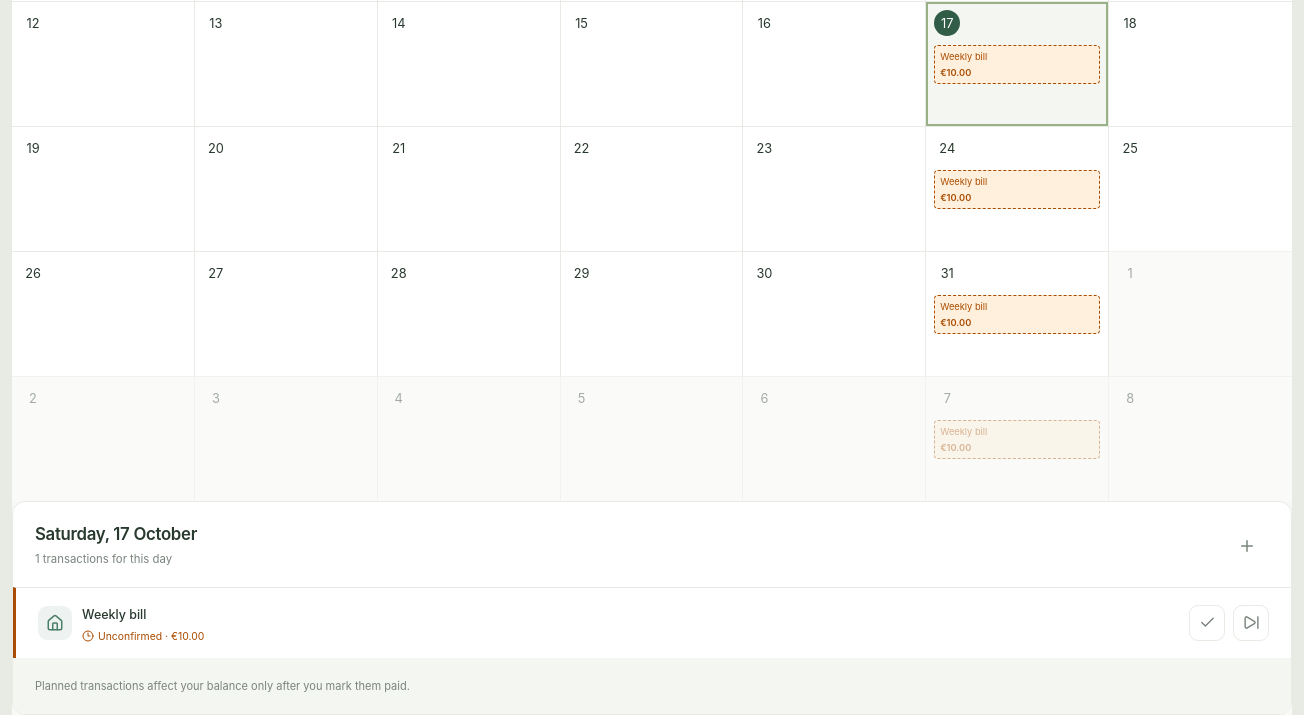
it: calendar states and default recurring table › shows all weekly instances and turns the selected occurrence green exactly once after confirmation
The width and height of the screenshot is (1304, 715).
(page scrolled)
Expected: the number of elements named "Weekly bill: Unconfirmed" is 4, [934,45,1100,84]; [934,170,1100,209]; [934,295,1100,334]; [934,420,1100,459]
Click the button named "Mark paid" at (1207, 623), box [1189,605,1225,641]
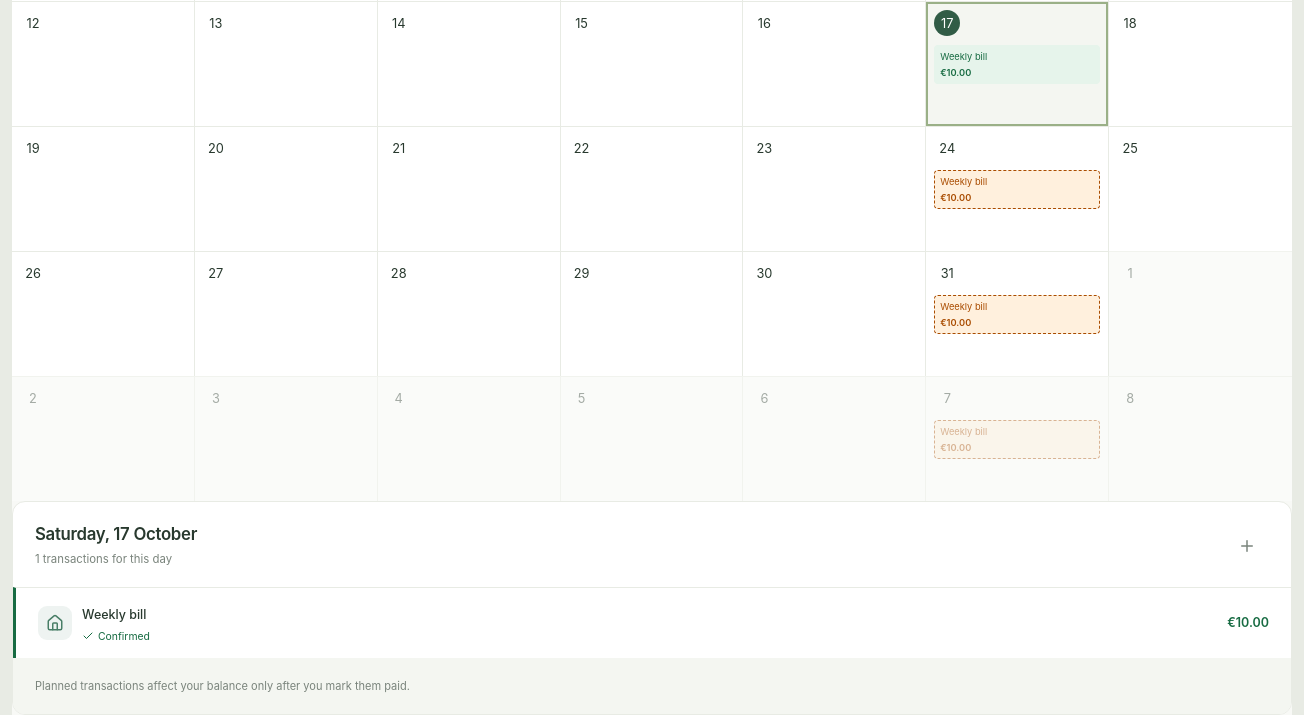
Expected: the text "Confirmed" is shown, [82,630,150,643]
Now no the text "Weekly bill Unconfirmed · €10.00" are shown
